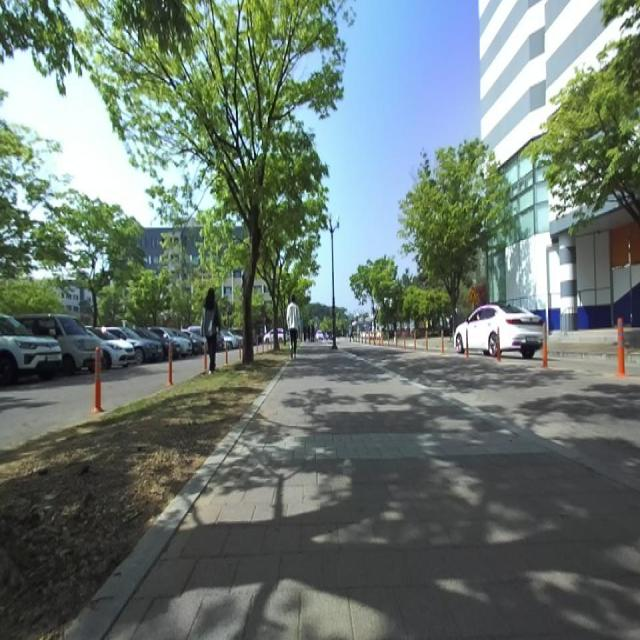sidewalk: (108, 350, 640, 639)
